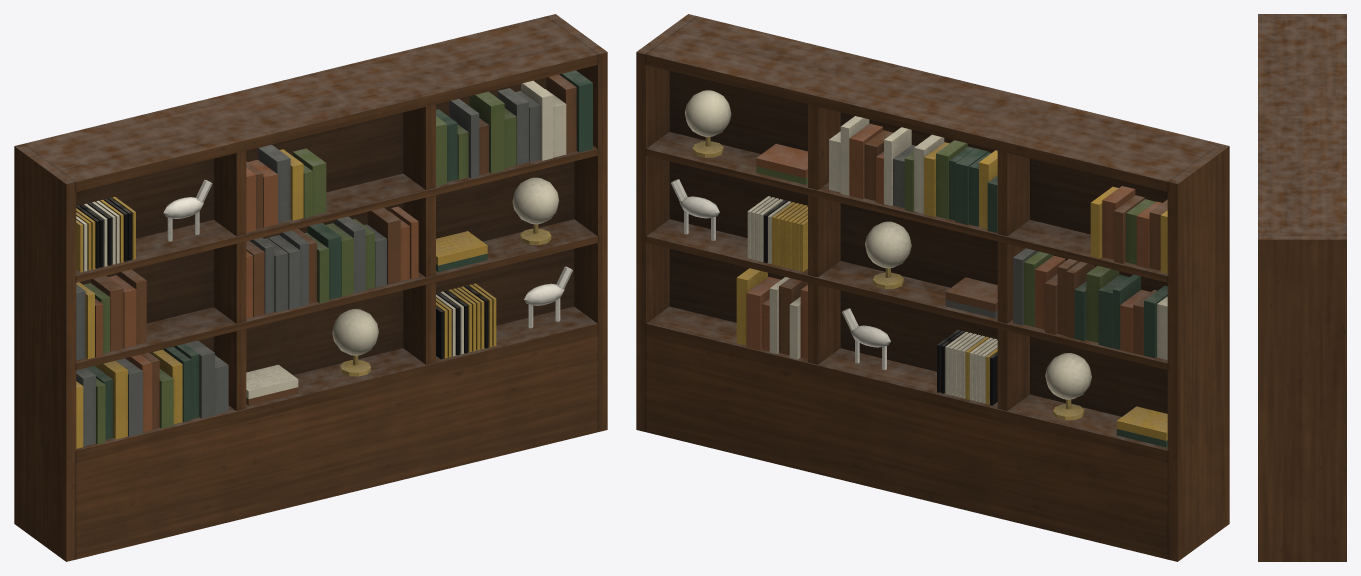
File: H_ShelfWall.fbx
3 views of the same model, side by side, from view 1: azimuth 30°, elevation 25°; view 2: azimuth 150°, elevation 25°; view 3: azimuth 270°, elevation 25° (orthographic). The views are drawn at different scales.
Parts seen in each view (by area): view 1: H_ShelfWall__H_ShelfWall, H_ShelfWall__H_ShelfWall_Books; view 2: H_ShelfWall__H_ShelfWall, H_ShelfWall__H_ShelfWall_Books; view 3: H_ShelfWall__H_ShelfWall.
Boxes of the visible parts, x1=… form: H_ShelfWall__H_ShelfWall: x1=14, y1=14, x2=607, y2=561; H_ShelfWall__H_ShelfWall_Books: x1=76, y1=70, x2=592, y2=448; H_ShelfWall__H_ShelfWall: x1=636, y1=14, x2=1229, y2=561; H_ShelfWall__H_ShelfWall_Books: x1=671, y1=90, x2=1167, y2=447; H_ShelfWall__H_ShelfWall: x1=1258, y1=14, x2=1346, y2=561.
Bounding box in the file's own units: 1200 × 800 × 200.
2 materials, 2 textured.
